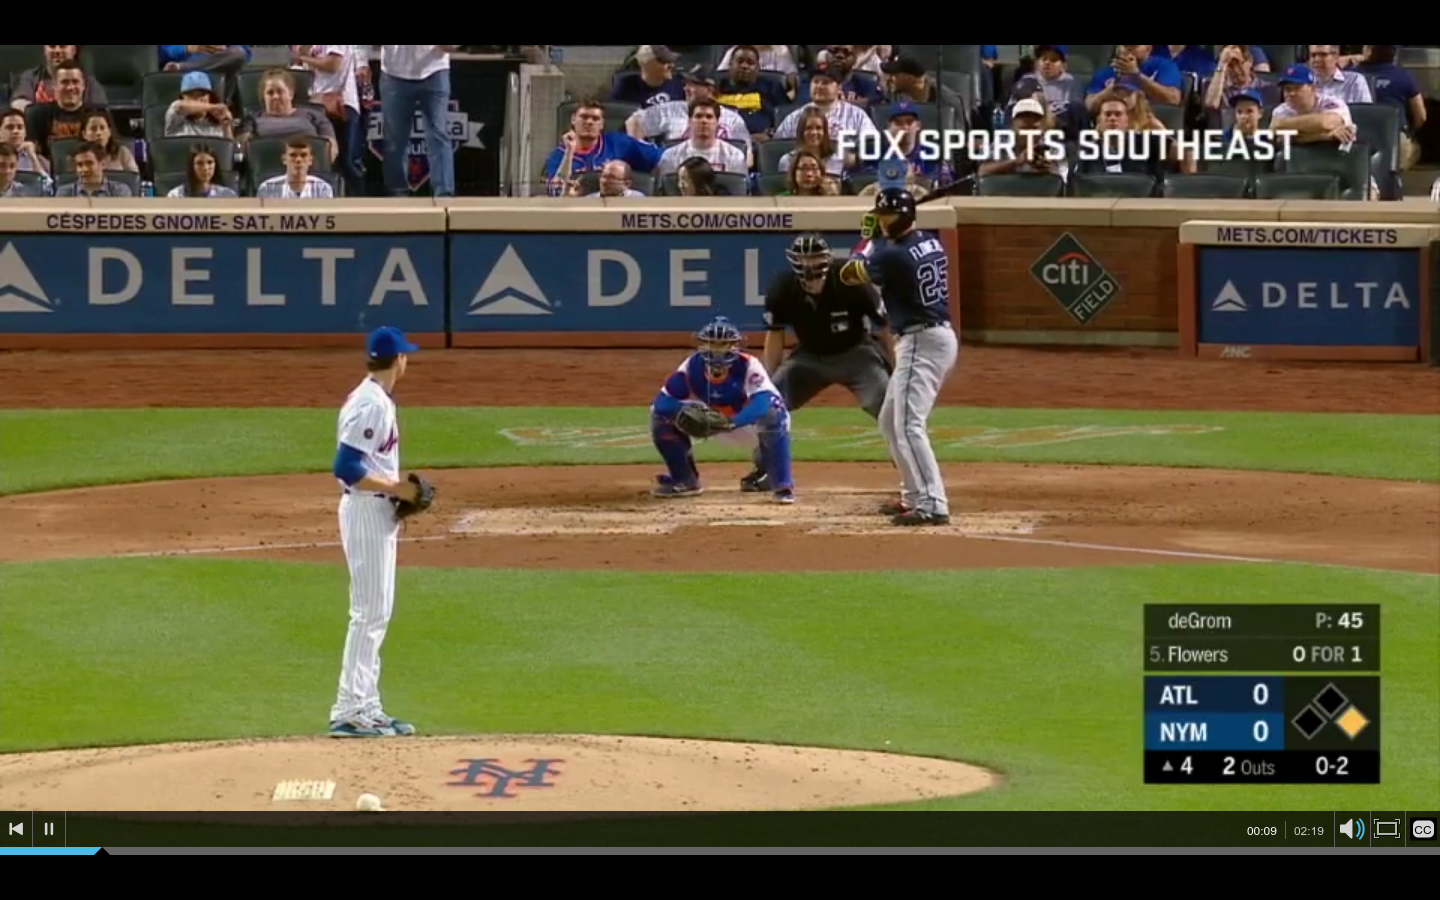baseball bat: (915, 154, 1033, 203)
baseball player: (319, 325, 439, 746), (841, 191, 967, 523), (642, 314, 799, 497)
referee: (739, 232, 899, 505)
